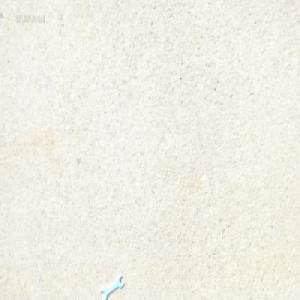Wrench: (100, 273, 125, 299)
